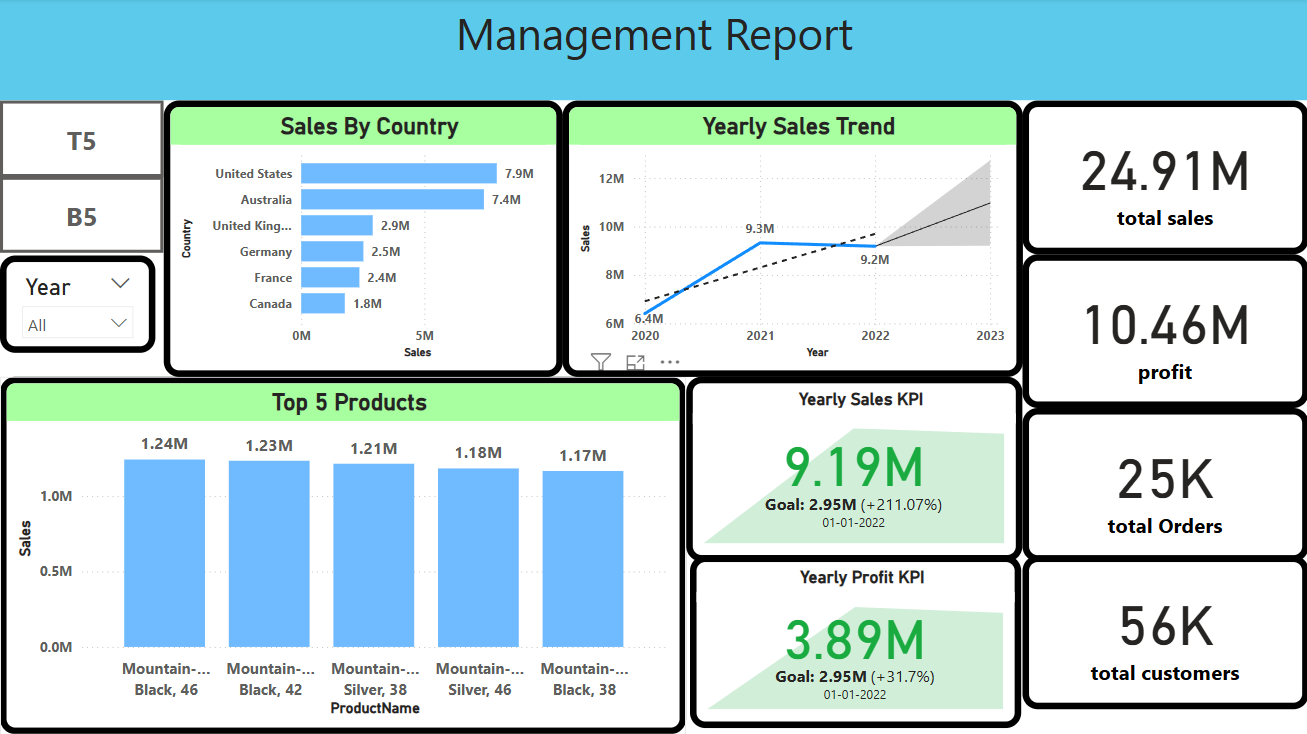

The page's visual inventory and layout, read from the dashboard file:
{"tool":"powerbi","page":{"name":"Page 1","canvas":[1280,720],"ordinal":0},"visuals":[{"type":"card","fields":{"Values":["'measures'.total sales"]},"box":[1000.3,100.3,280,150.4],"z":0},{"type":"card","fields":{"Values":["'measures'.profit"]},"box":[1000.3,250.7,280,150.4],"z":1000},{"type":"card","fields":{"Values":["Sales Data.total Orders"]},"box":[1000.3,401.1,280,150.4],"z":2000},{"type":"card","fields":{"Values":["Sales Data.total customers"]},"box":[1000.3,545.4,280,150.4],"z":3000},{"type":"columnChart","title":"Top 5 Products","fields":{"Y":["Sum(Sales Data.Amt(Calculated))"],"Category":["Product Lookup.ProductName"]},"box":[0,370.5,671,349.7],"z":4000},{"type":"actionButton","box":[0,100.3,160.2,75],"z":6000},{"type":"actionButton","box":[0,174.9,160.2,74.6],"z":7000},{"type":"textbox","box":[0,0,1280.3,100.3],"z":8000},{"type":"kpi","title":"Yearly Sales KPI","fields":{"Goal":["'measures'.SPLY1"],"Indicator":["'measures'.TotAmt(perfect)"],"TrendLine":["Calender Lookup.startofyear"]},"box":[671.3,370.5,328.9,181],"z":9000},{"type":"kpi","title":"Yearly Profit KPI","fields":{"Indicator":["'measures'.profit"],"Goal":["'measures'.sply"],"TrendLine":["Calender Lookup.startofyear"]},"box":[675,545.4,324.1,168.8],"z":10000},{"type":"lineChart","title":"Yearly Sales Trend","fields":{"Category":["Calender Lookup.Date.Variation.Date Hierarchy.Year"],"Y":["'measures'.TotAmt(perfect)"]},"box":[550.3,100.3,450,270.2],"z":11000},{"type":"barChart","title":"Sales By Country","fields":{"Category":["Territory Lookup.Country"],"Y":["'measures'.TotAmt(perfect)"]},"box":[160.2,100.3,390.1,270.2],"z":12000},{"type":"slicer","fields":{"Values":["Calender Lookup.Date.Variation.Date Hierarchy.Year"]},"box":[0,251.9,151.6,95.4],"z":13000}]}

Visuals, with their boxes in screenshot pixels (x1, y1, x2, y2), scaled from the page's 1280x720 canvas onto the 1307x734 screenshot:
card - 'measures'.total sales: box(1021, 102, 1306, 256)
card - 'measures'.profit: box(1021, 256, 1306, 409)
card - Sales Data.total Orders: box(1021, 409, 1306, 562)
card - Sales Data.total customers: box(1021, 556, 1306, 709)
"Top 5 Products" columnChart: box(0, 378, 685, 733)
actionButton: box(0, 102, 164, 179)
actionButton: box(0, 178, 164, 254)
textbox: box(0, 0, 1306, 102)
"Yearly Sales KPI" kpi: box(685, 378, 1021, 562)
"Yearly Profit KPI" kpi: box(689, 556, 1020, 728)
"Yearly Sales Trend" lineChart: box(562, 102, 1021, 378)
"Sales By Country" barChart: box(164, 102, 562, 378)
slicer - Calender Lookup.Date.Variation.Date Hierarchy.Year: box(0, 257, 155, 354)
